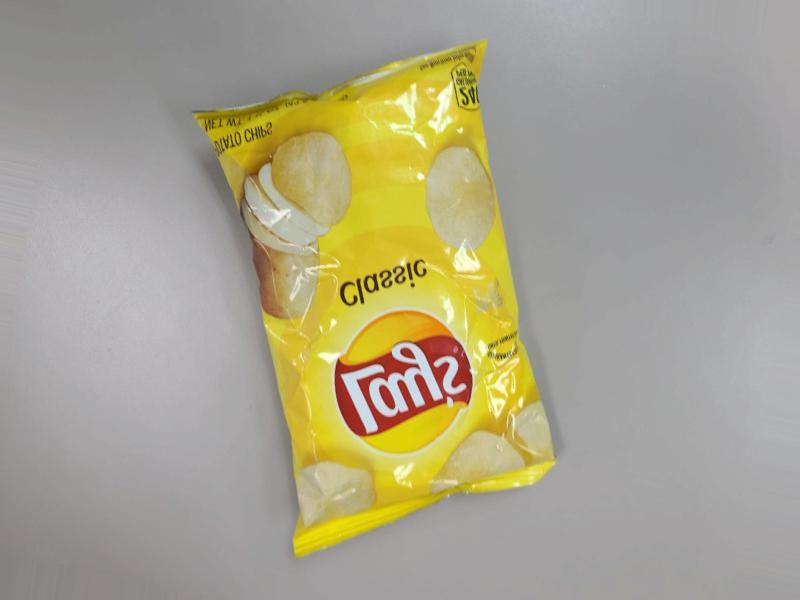lays: (159, 56, 608, 600)
